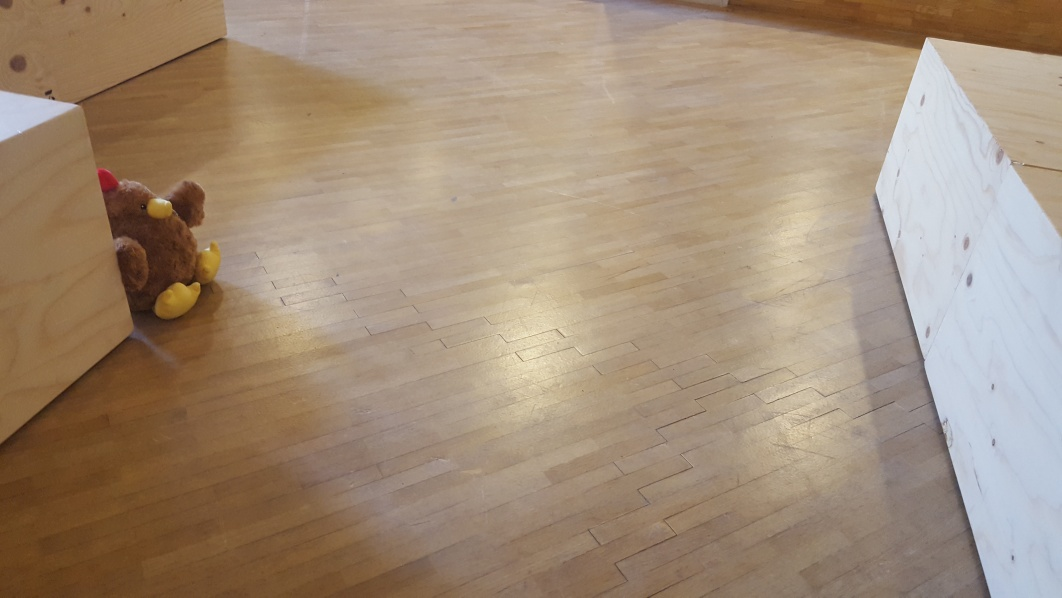chicken: (91, 164, 222, 325)
